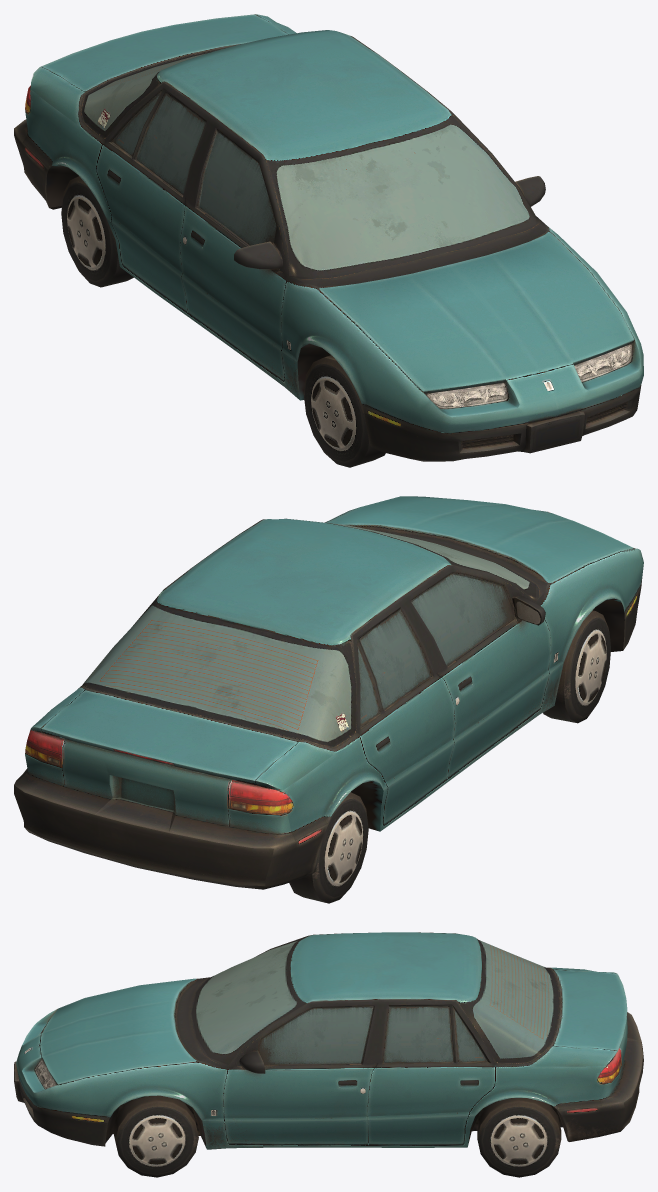
The picture shows the model from 3 angles, top to bottom: view 1: azimuth 30°, elevation 25°; view 2: azimuth 150°, elevation 25°; view 3: azimuth 270°, elevation 25°; orthographic projection. The views are drawn at different scales.
Parts seen in each view (by area): view 1: debor3; view 2: debor3; view 3: debor3.
Part boxes in pixels (left/top/right/bottom): debor3: left=14, top=14, right=643, bottom=467; debor3: left=14, top=496, right=643, bottom=903; debor3: left=14, top=932, right=643, bottom=1177.
Bounding box in the file's own units: 10.02 × 7.36 × 24.15.
Materials: 1 (1 with a texture image).
